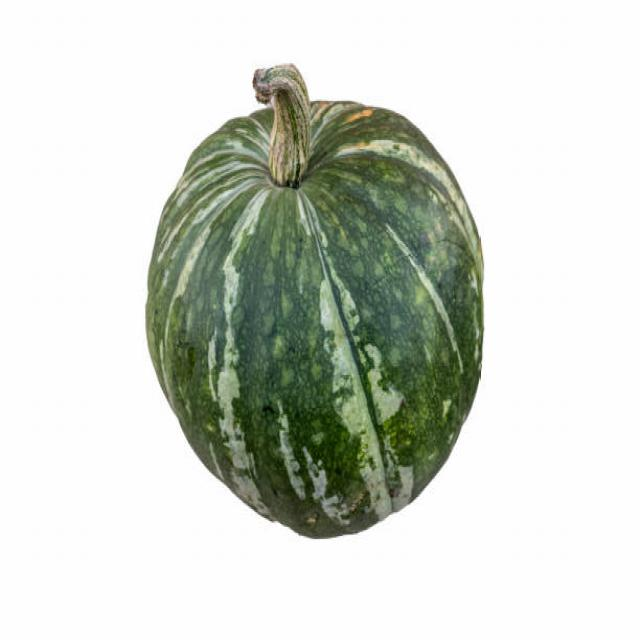Pumpkin: (141, 73, 489, 542)
